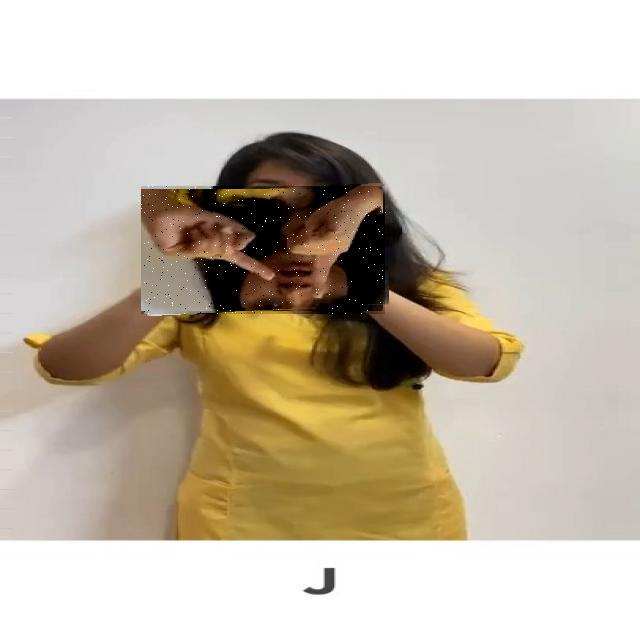J: (142, 186, 388, 314)
